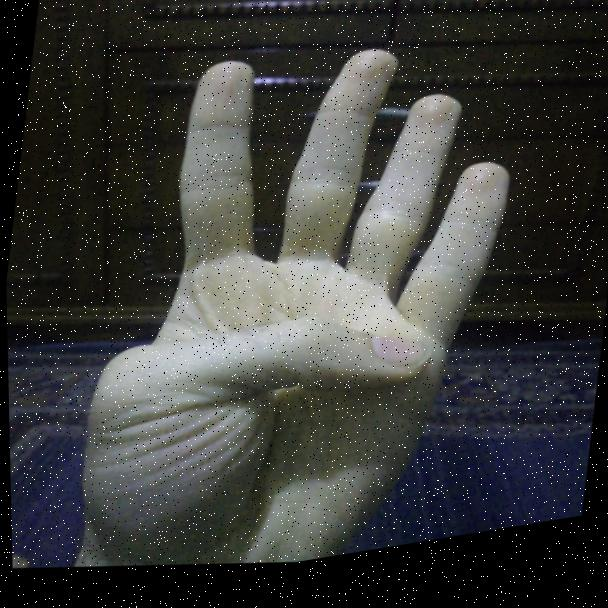four: (38, 0, 553, 603)
